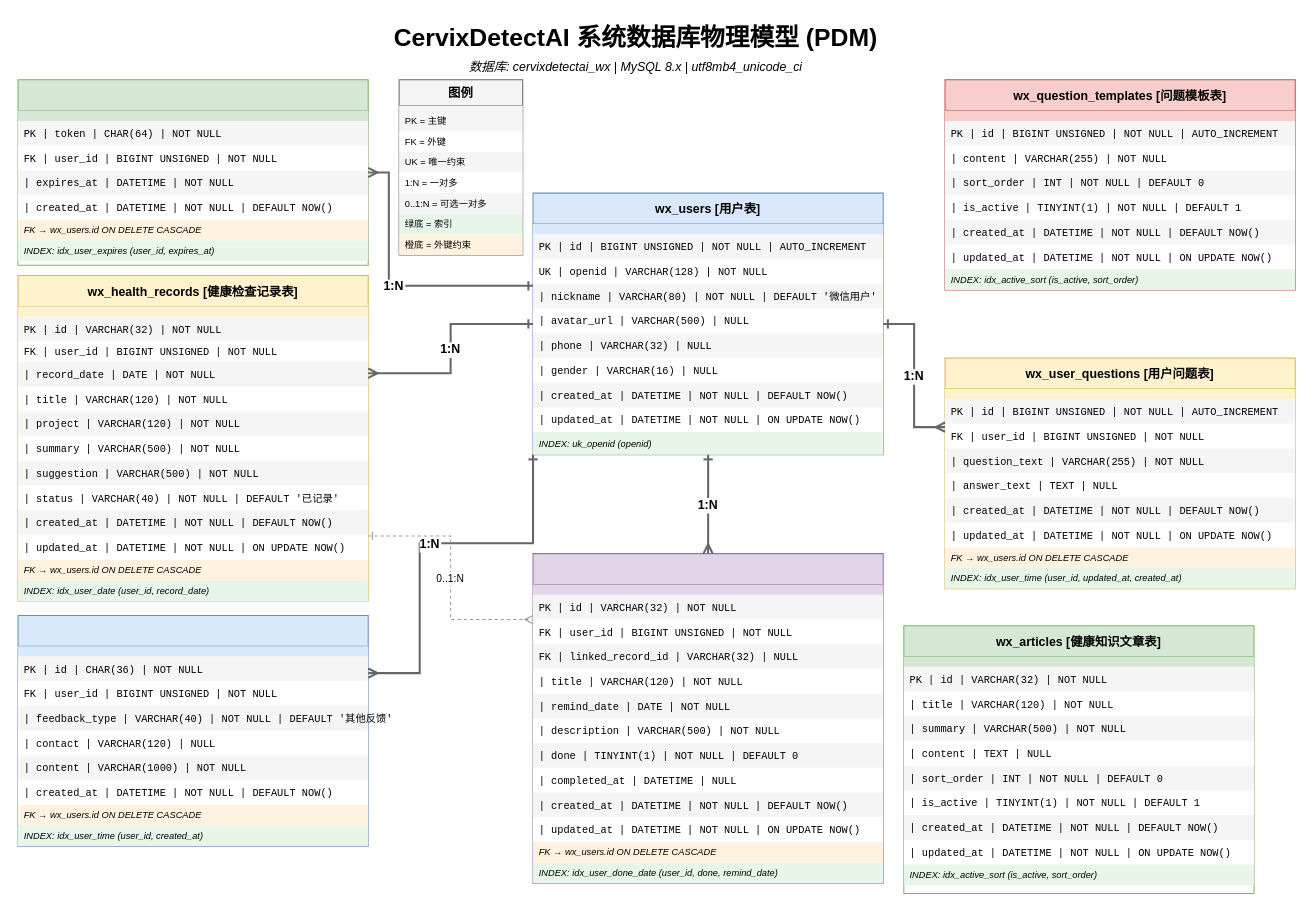
Image size: 1313x912. Some labels were removed from this diagram. Each missing label, with the box of its shape:
wx_feedback [用户反馈表]: (17, 614, 368, 846)
wx_reminders [复查提醒表]: (532, 553, 883, 883)
wx_sessions [会话表]: (17, 79, 368, 265)
